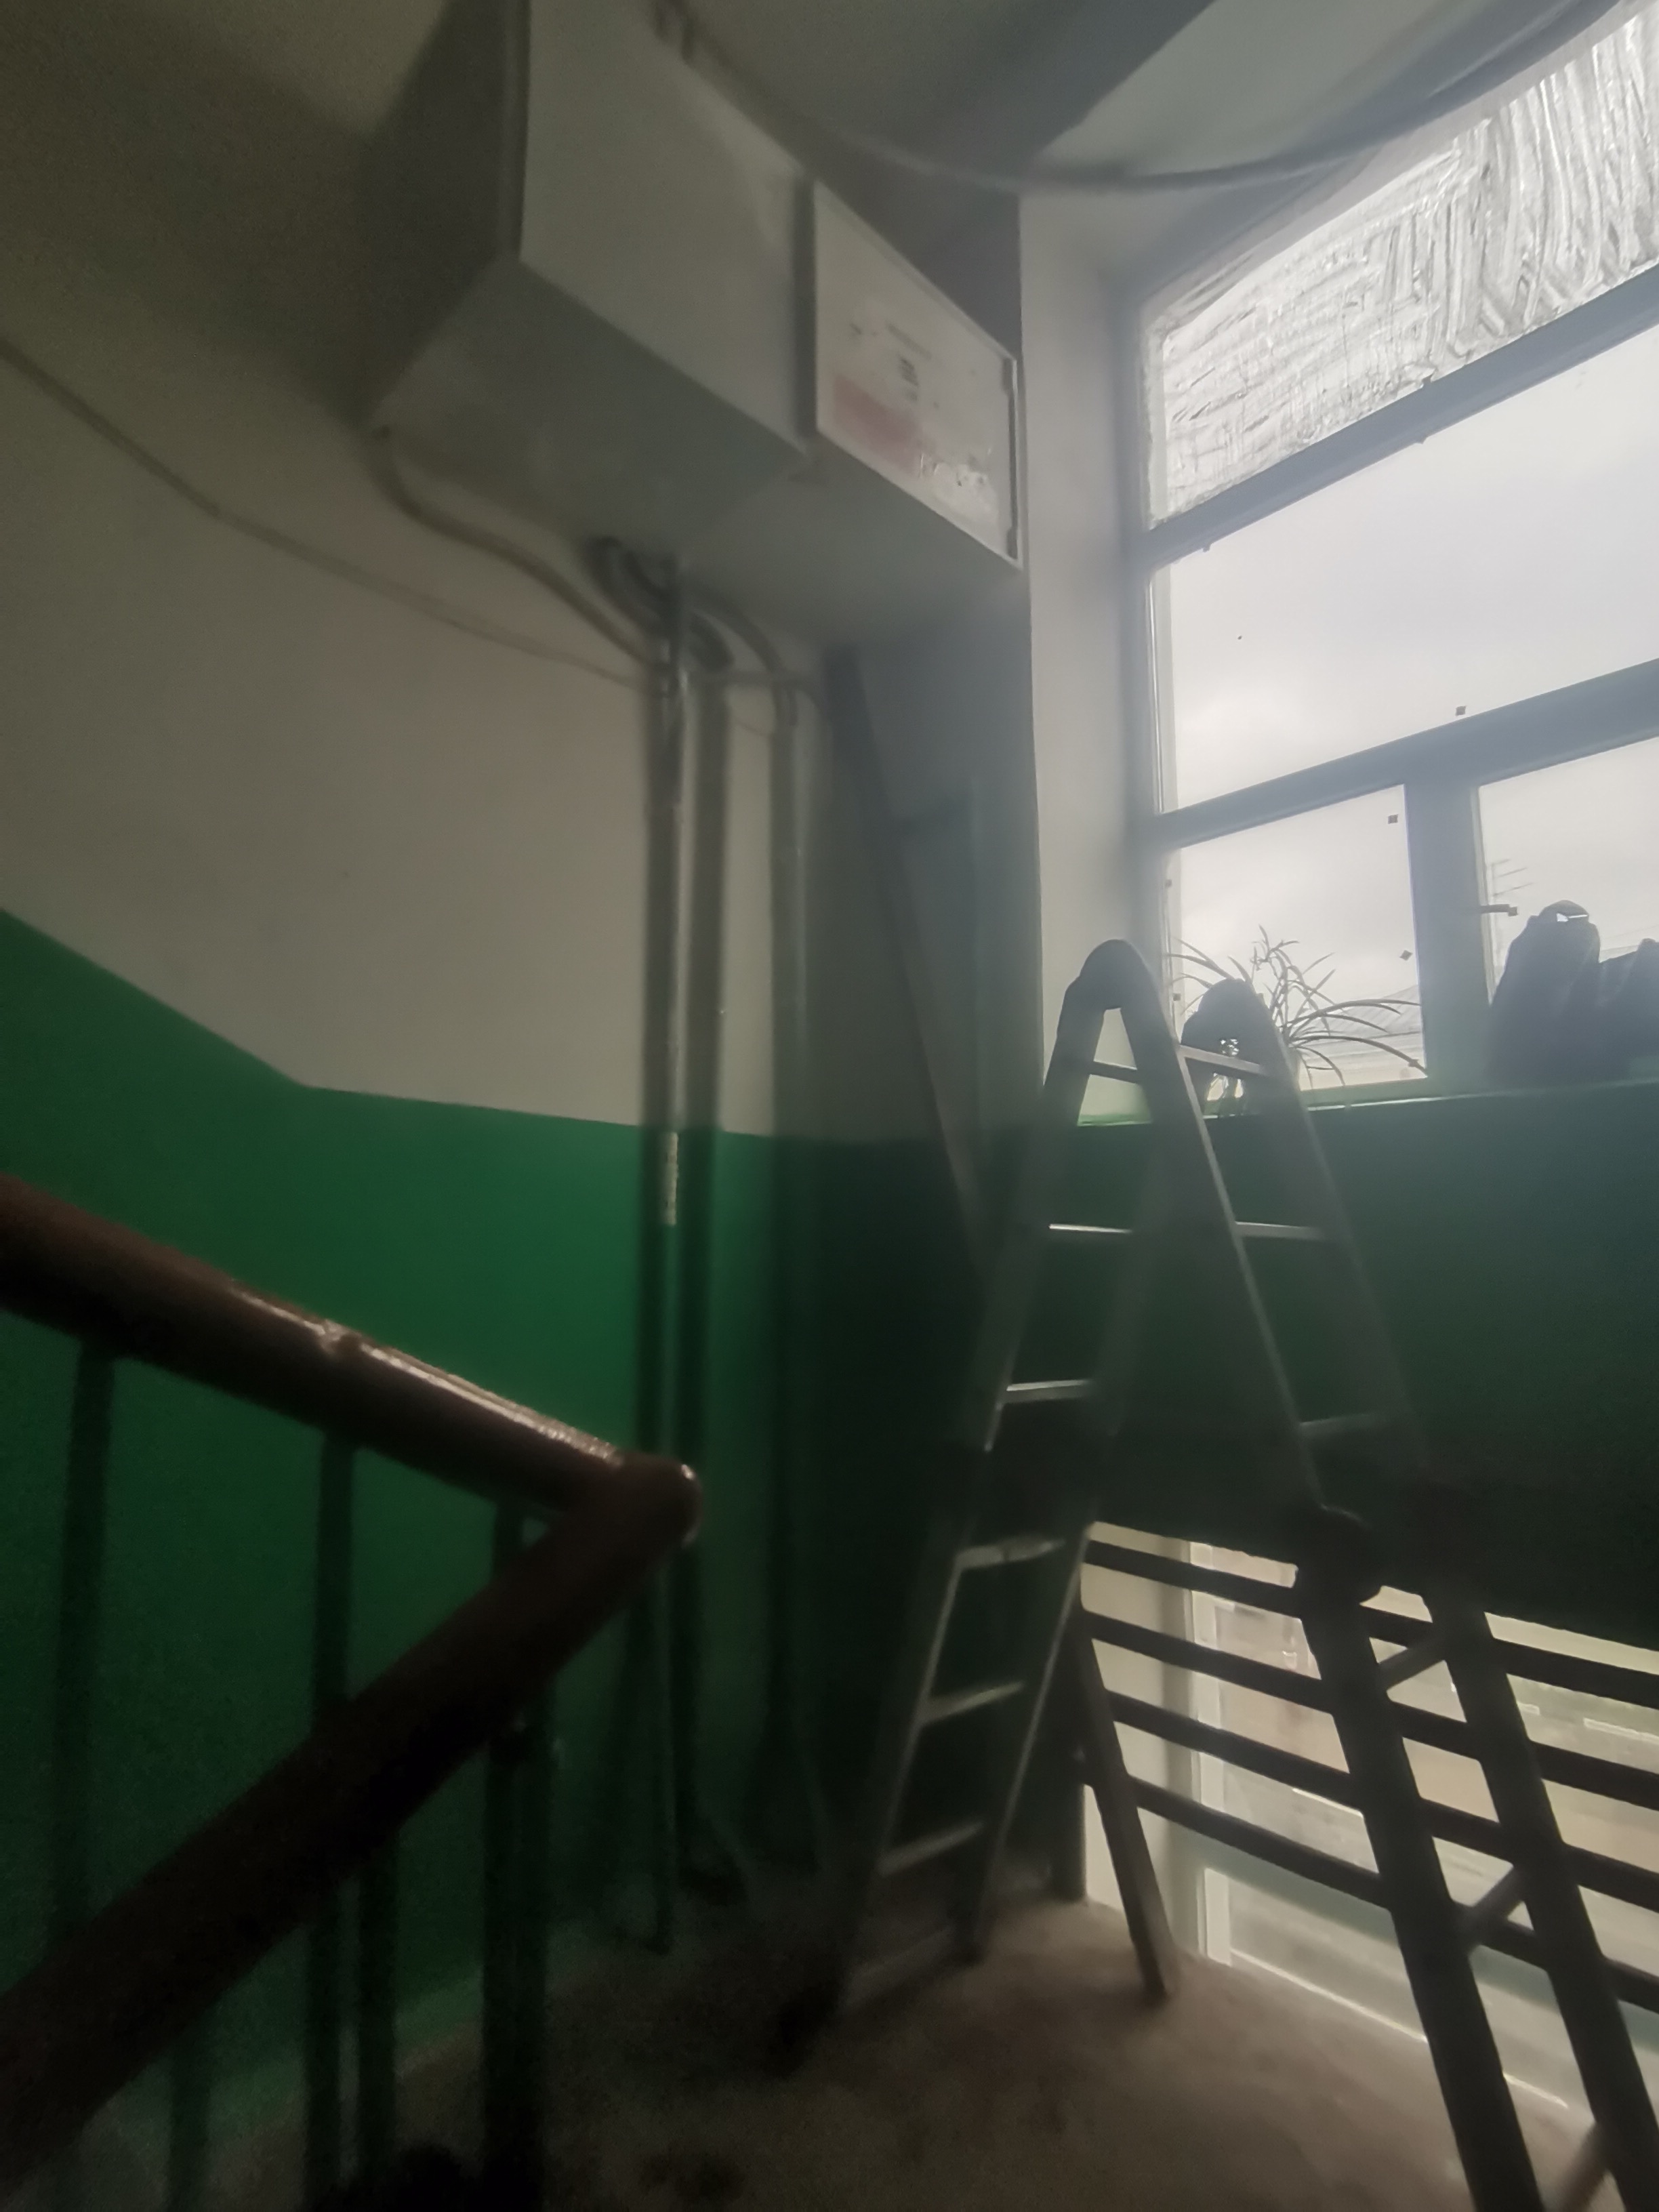shta-9m: (671, 174, 1028, 676)
